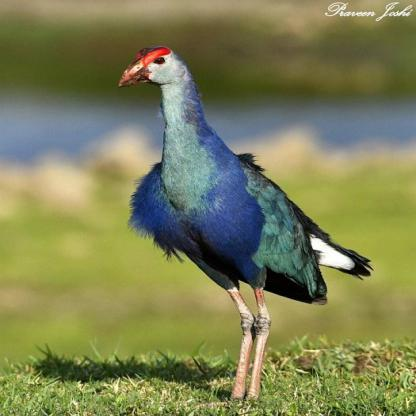Burung: (115, 47, 373, 402)
